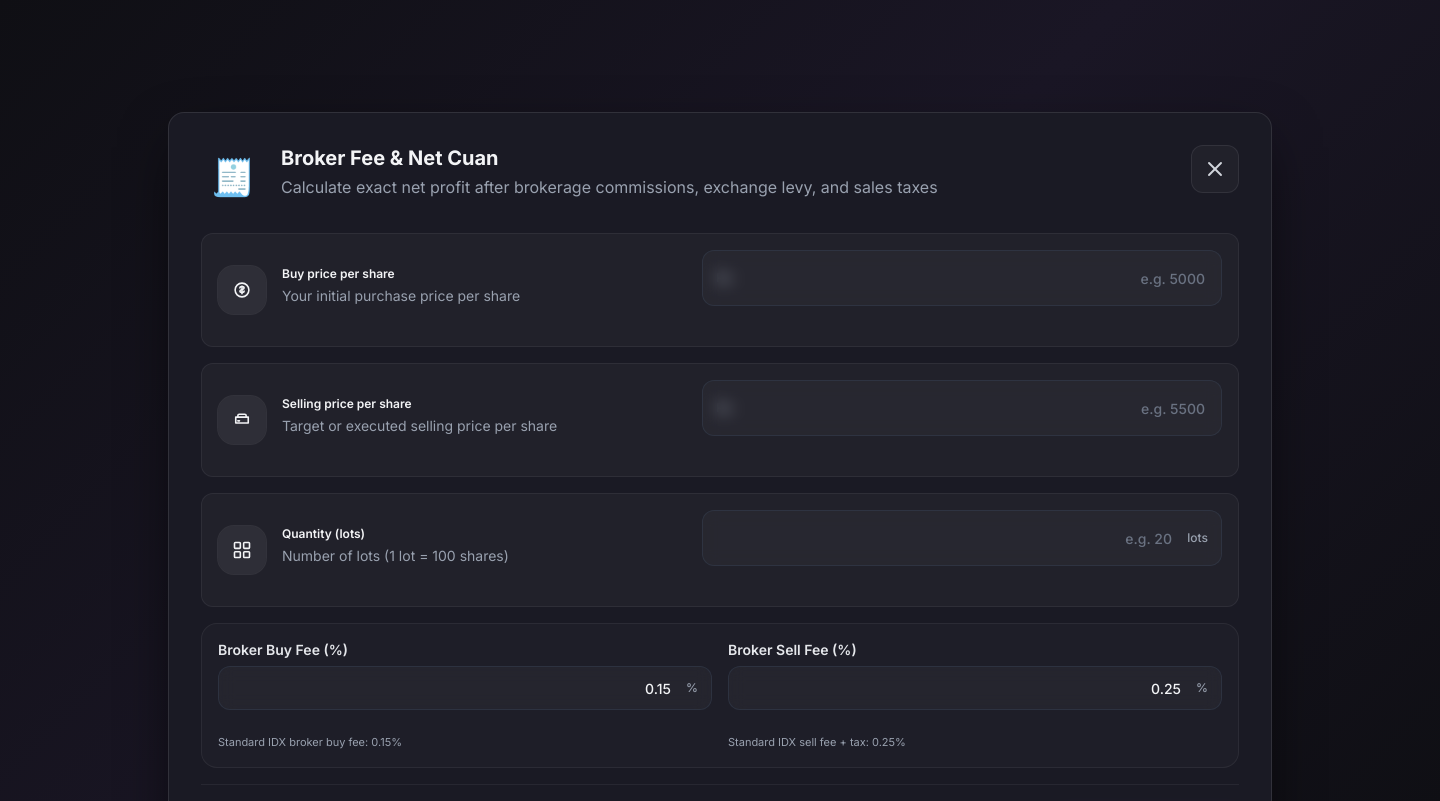
BrokerFee page › calculates clean net cuan and break-even price
The image size is (1440, 801).
In the field labelled "Buy price per share": (962, 278) [702,250,1222,306], type "5000"
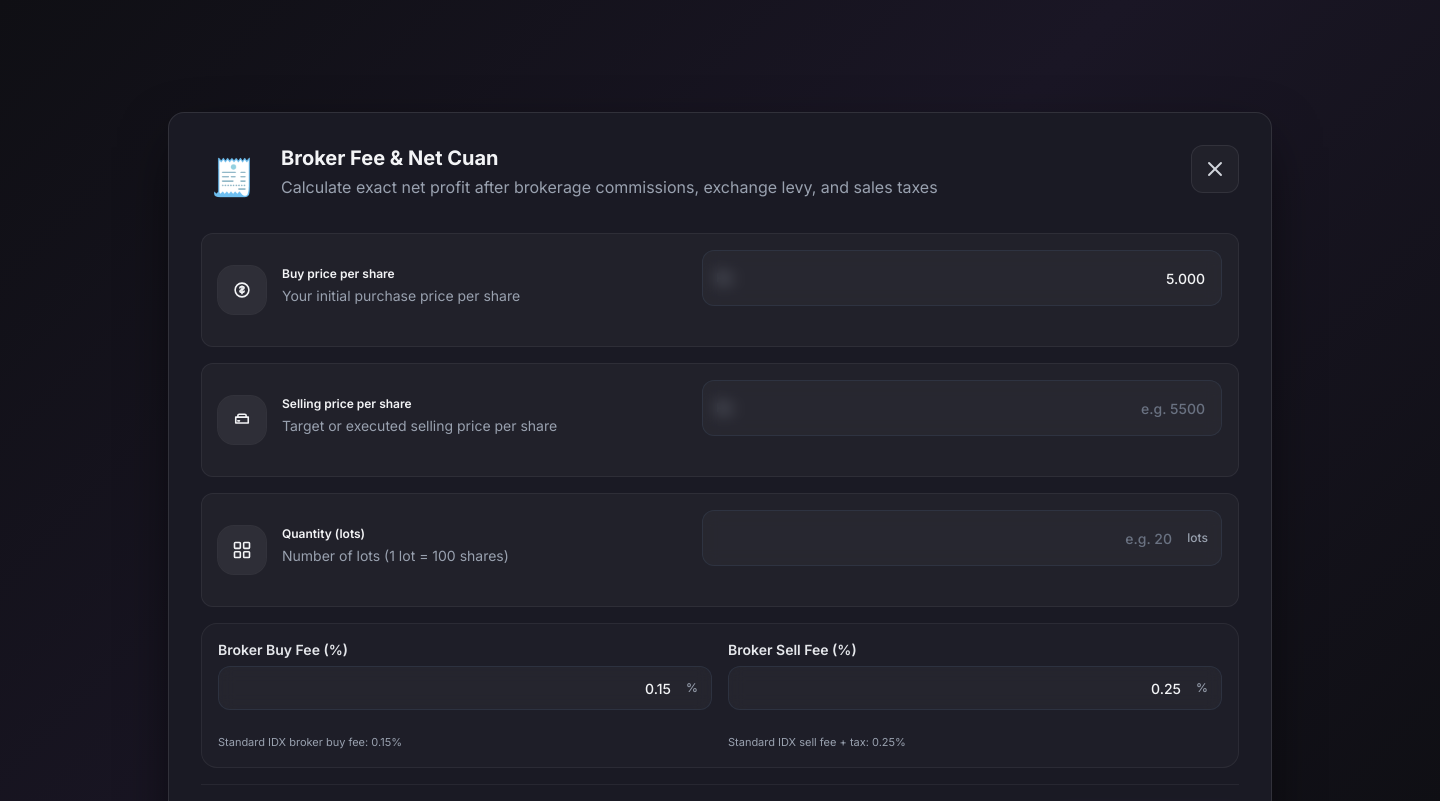
In the field labelled "Selling price per share": (962, 408) [702,380,1222,436], type "5500"
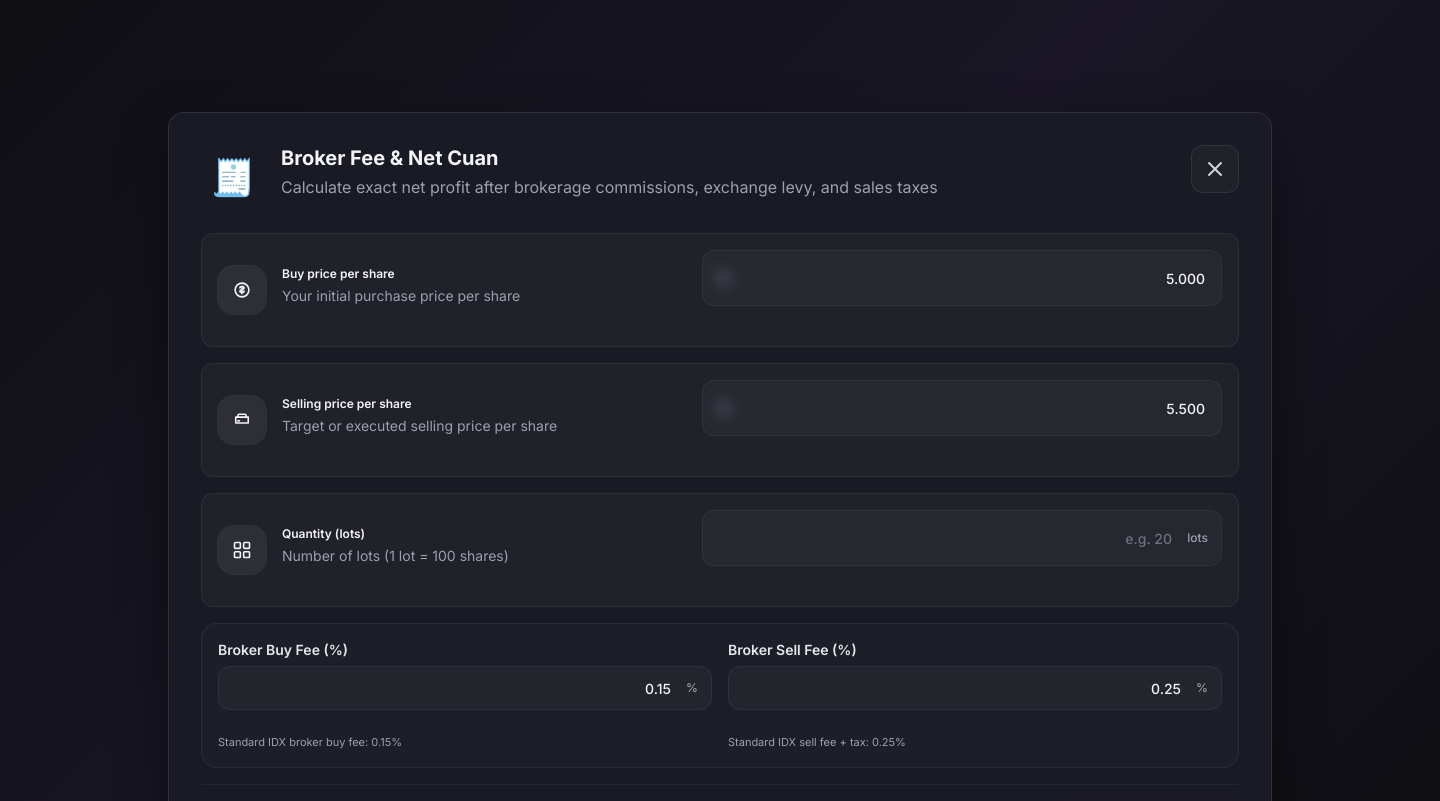
In the field labelled "Quantity (lots)": (962, 538) [702,510,1222,566], type "20"
(page scrolled)
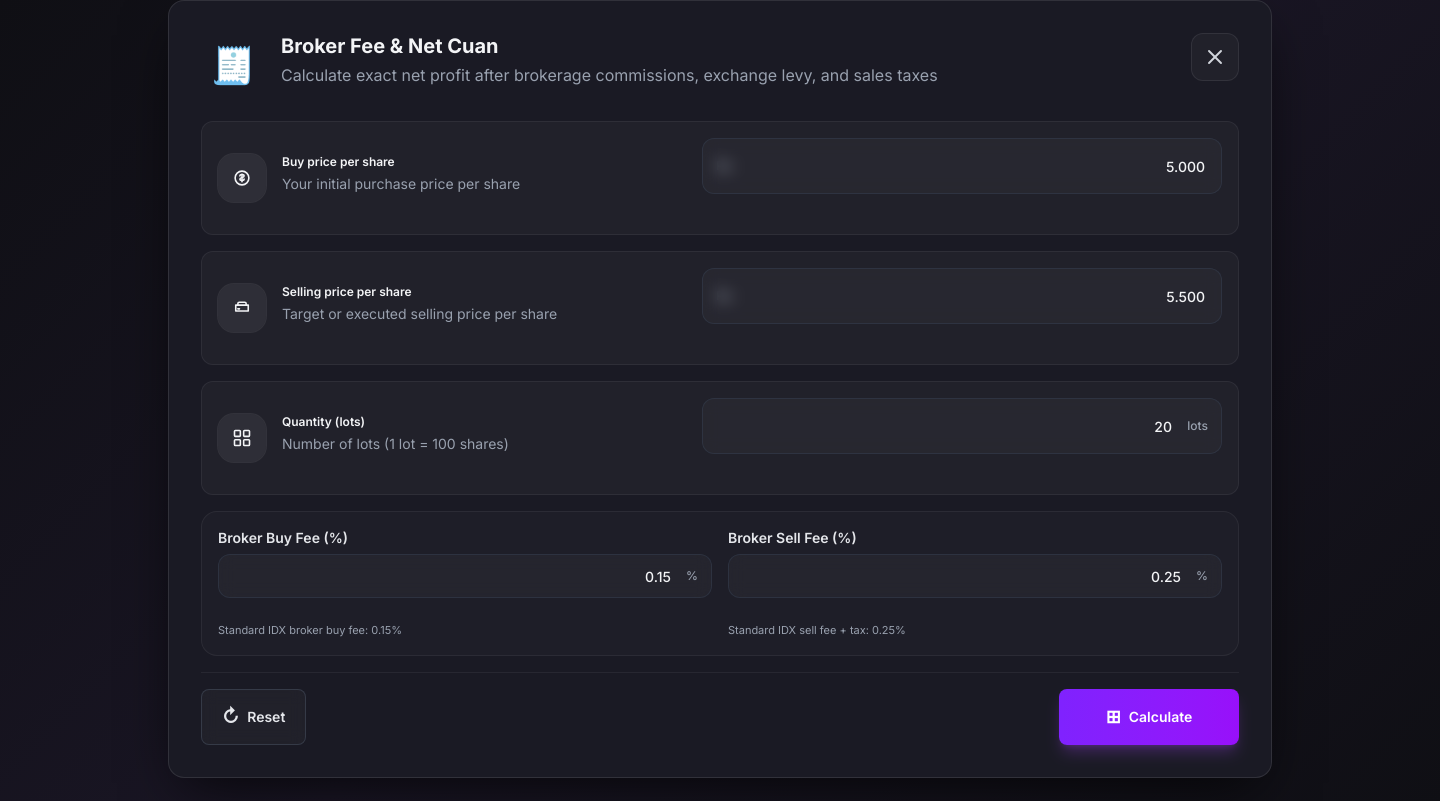
Click the button "⊞ Calculate": (1149, 716) [1059,688,1239,744]
(page scrolled)
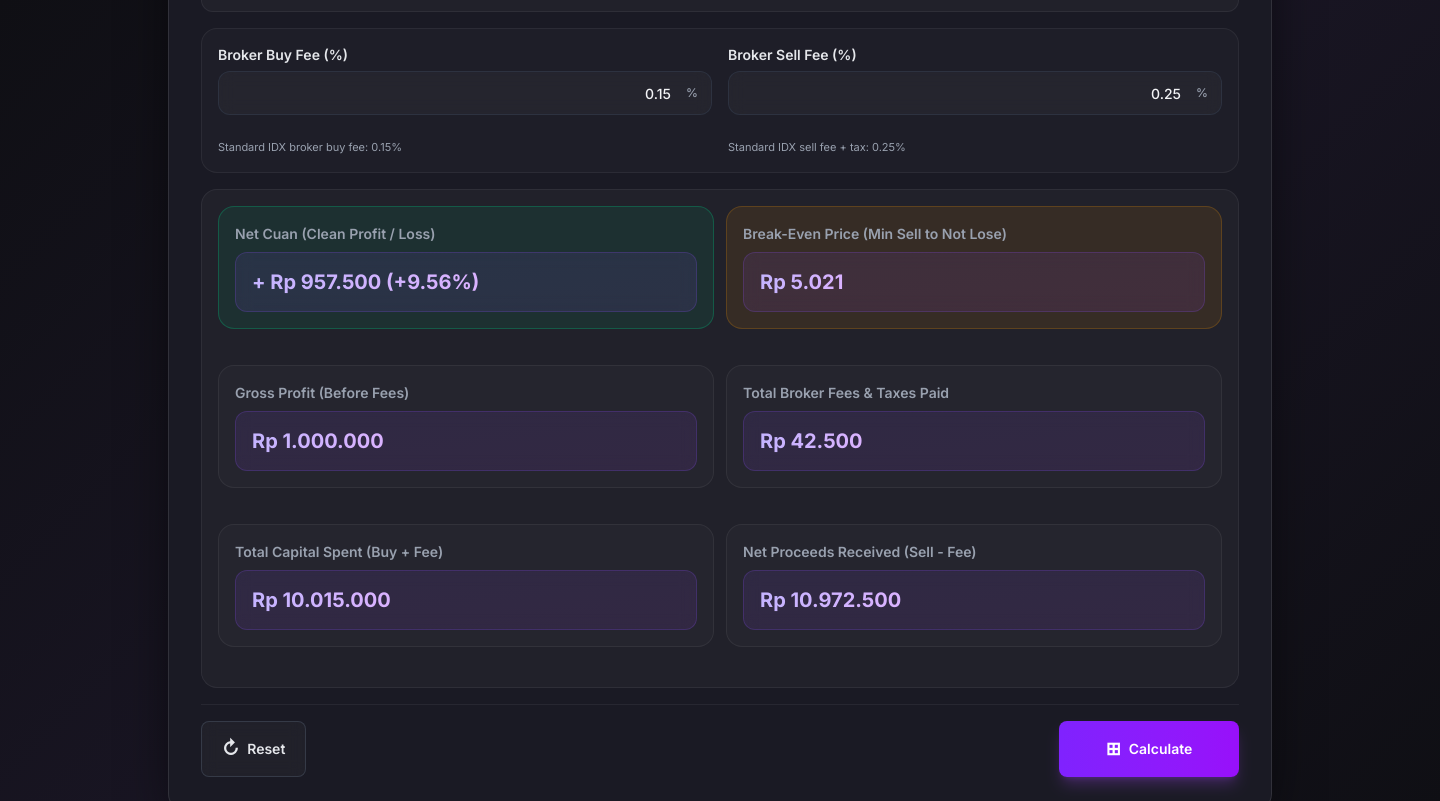
Expected: the text "+ Rp 957.500 (+9.56%)" is shown, [252,270,479,294]
Expected: the text "Rp 42.500" is shown, [760,428,863,452]
